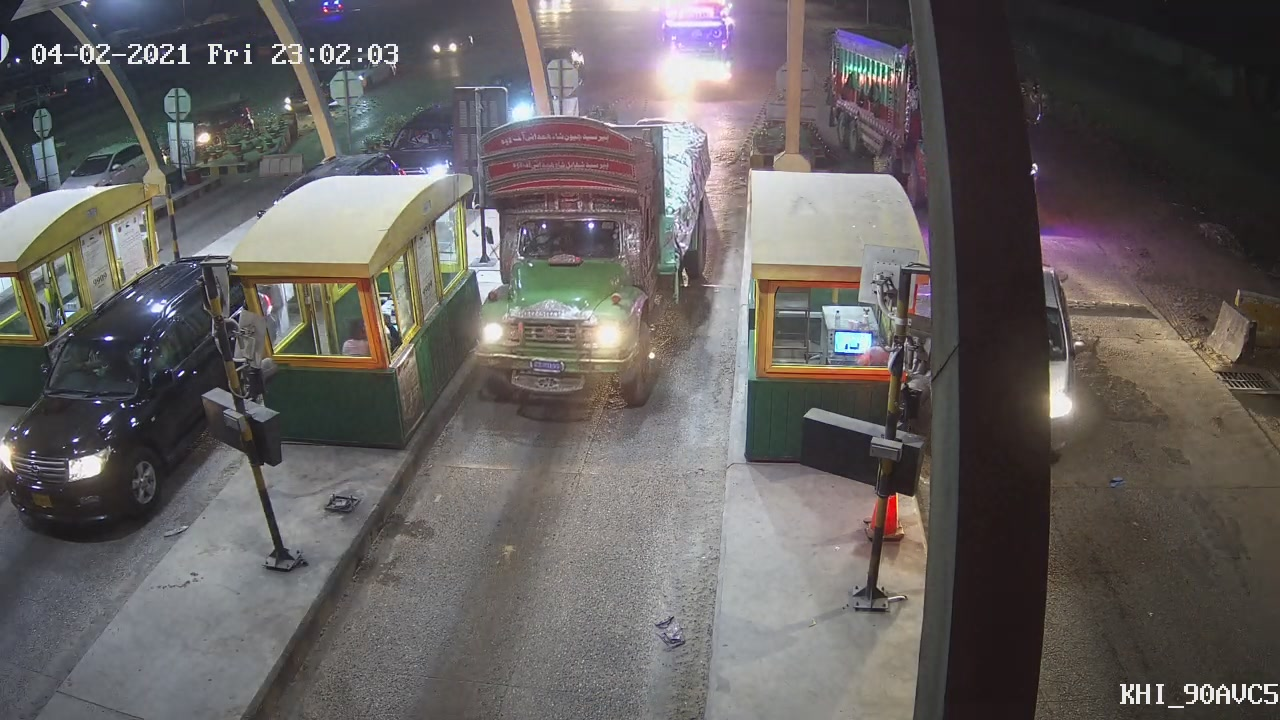F5: (465, 110, 709, 403)
